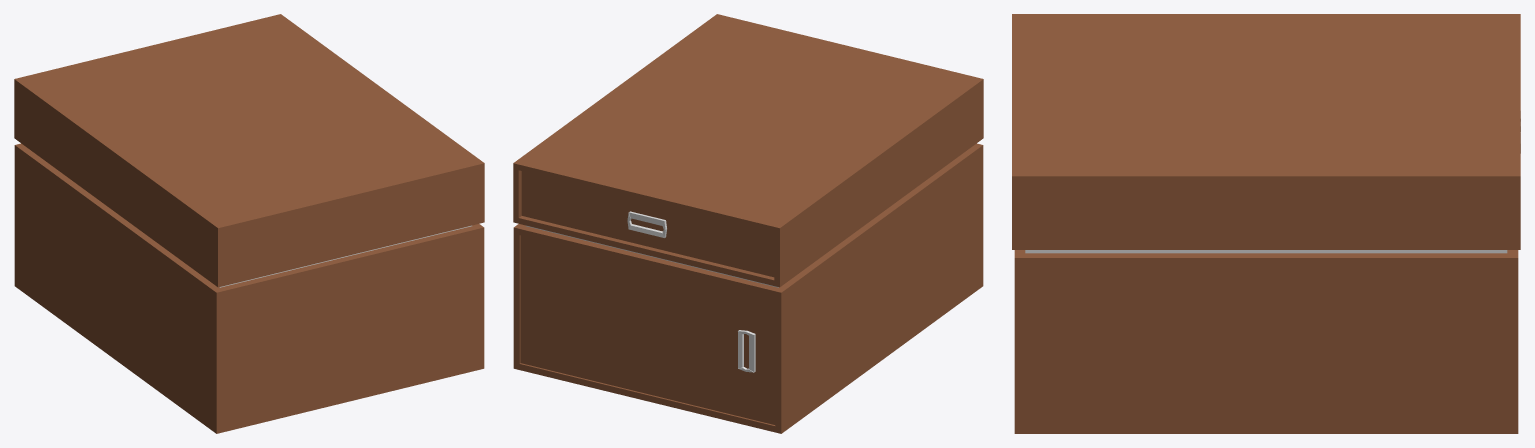
The model's file is Laci Interact.fbx.
3 renders of one model, left to right at view 1: azimuth 30°, elevation 25°; view 2: azimuth 150°, elevation 25°; view 3: azimuth 270°, elevation 25°, orthographic. The views are drawn at different scales.
Visible parts, largest first — view 1: Cube.041; view 2: Cube.041, Cube.048; view 3: Cube.041.
Boxes of the visible parts, x1,y1,x2,y2 form: Cube.041: [14, 14, 484, 433]; Cube.041: [513, 14, 983, 433]; Cube.048: [521, 171, 774, 277]; Cube.041: [1012, 14, 1520, 433].
Size of the model in its own units: 146 by 108 by 193.
